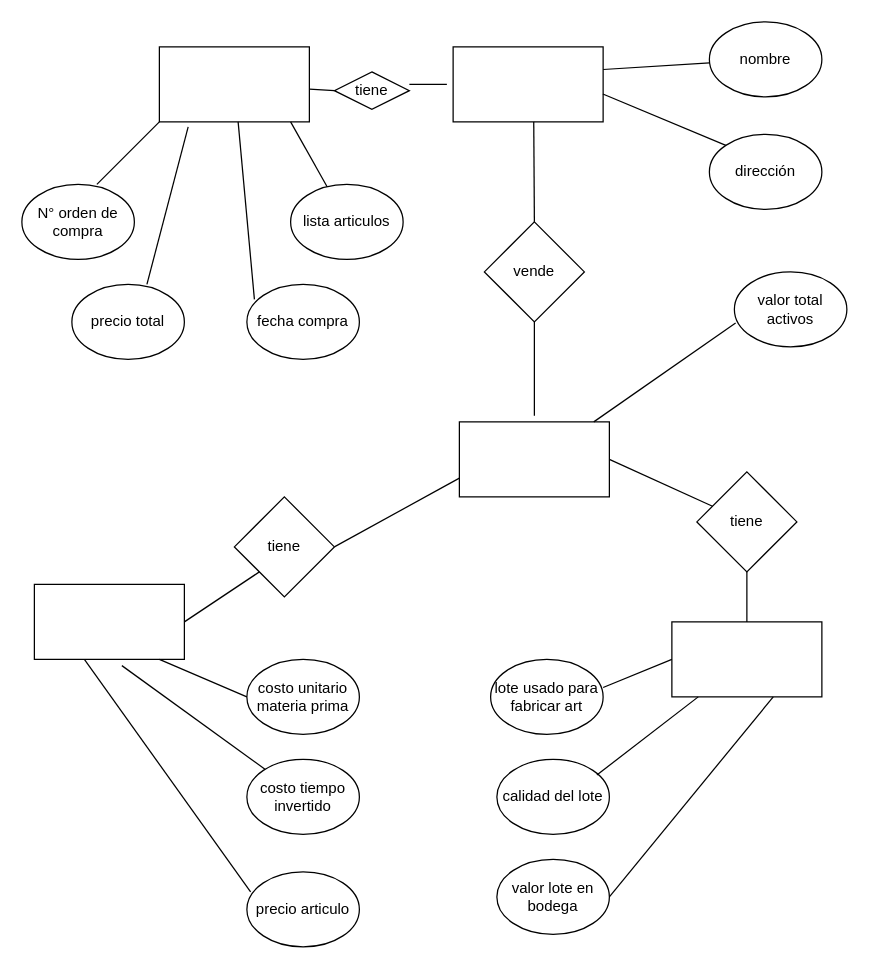
This 869x969 diagram has some shape labels left out. Each missing label, with the centre of its shape:
artículos: pixel 108 621
bodega: pixel 746 659
cliente: pixel 527 84
Orden de Compra: pixel 233 84
tienda: pixel 533 459
